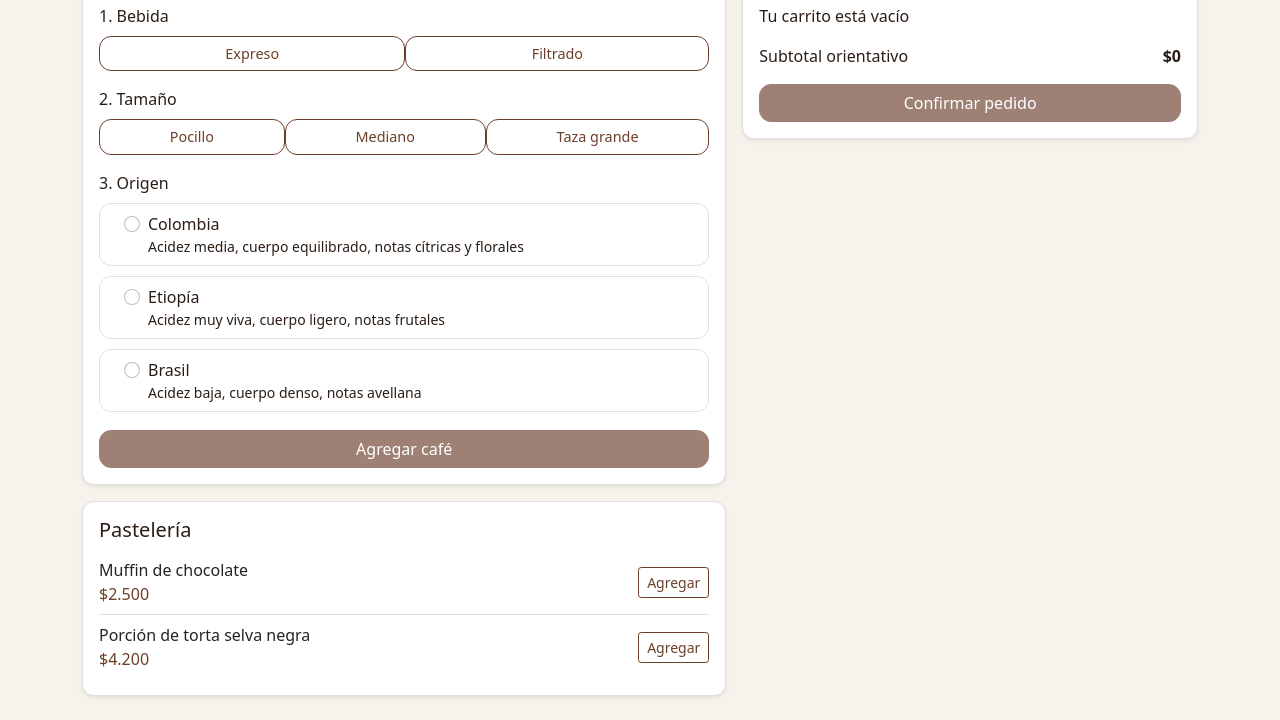
Test: impide confirmar nuevamente mientras el pedido está pendiente de respuesta
(page scrolled)
Click the button with aria-label "Agregar Muffin de chocolate" at (674, 582), box [638,566,709,598]
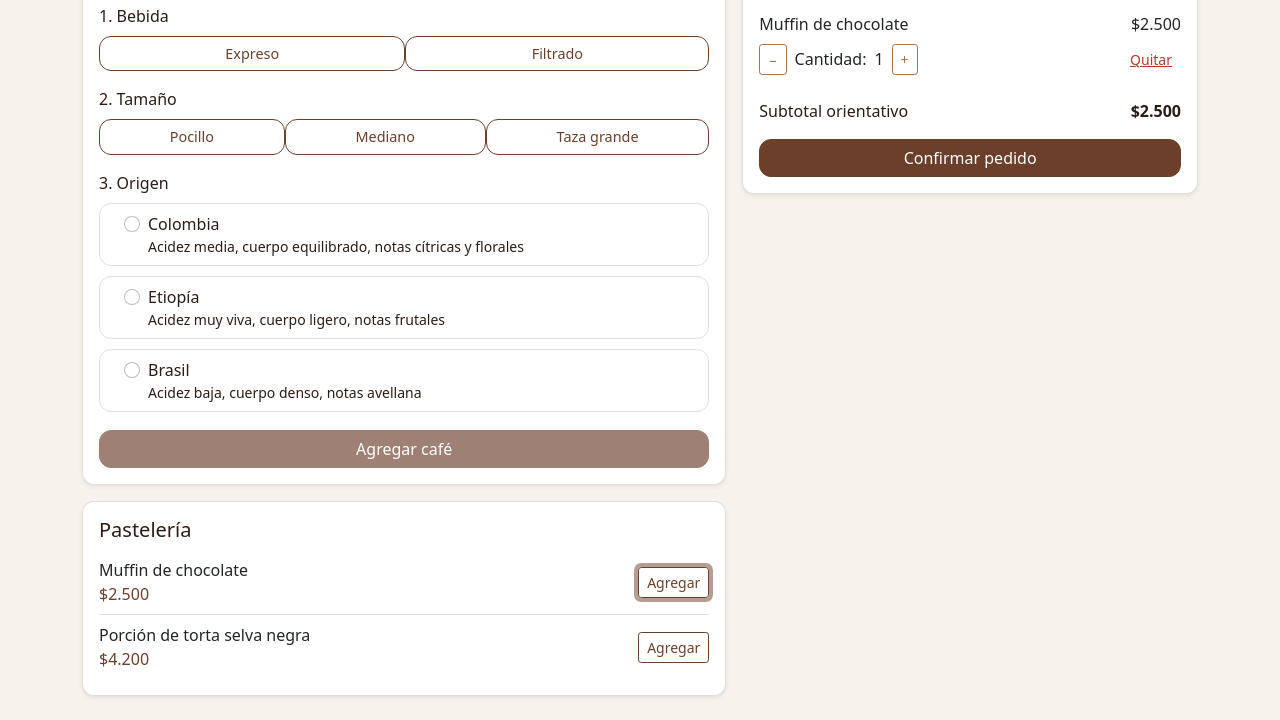
Click the button "Confirmar pedido" at (970, 158), box [759,139,1181,177]
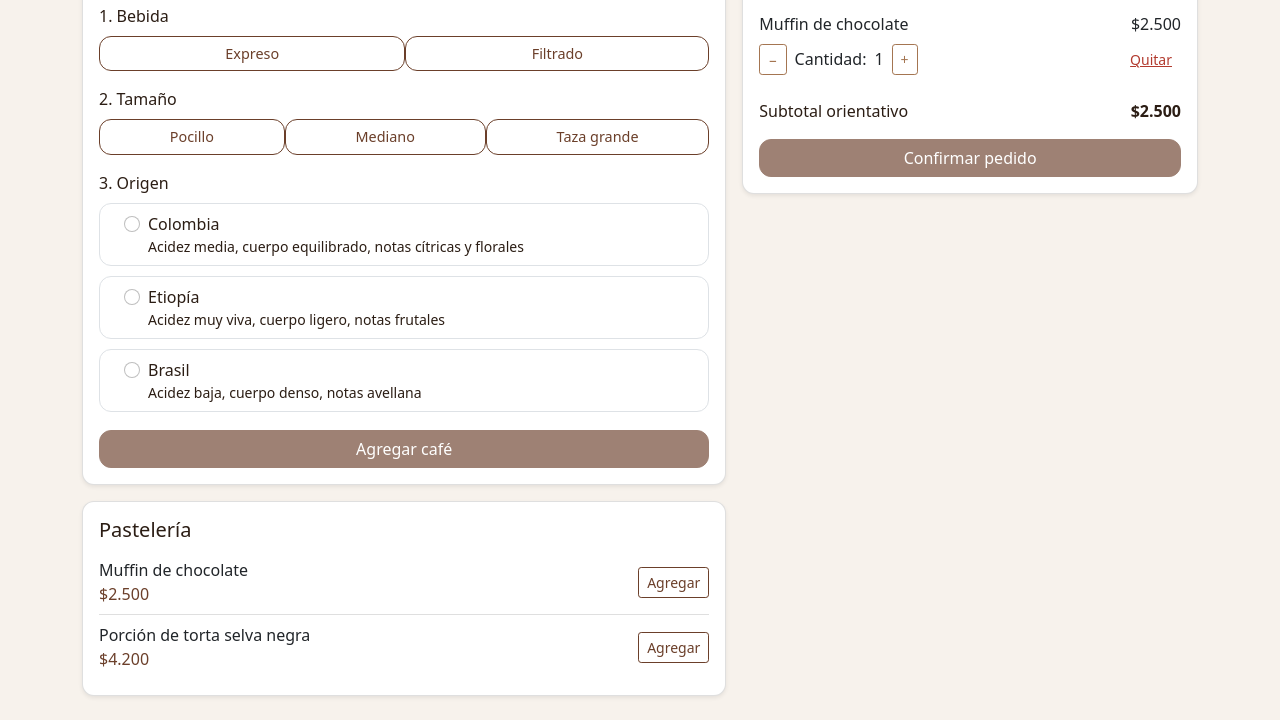
Result: the button "Confirmar pedido" is disabled
Click the button "Confirmar pedido" at (970, 158), box [759,139,1181,177]
(page scrolled)
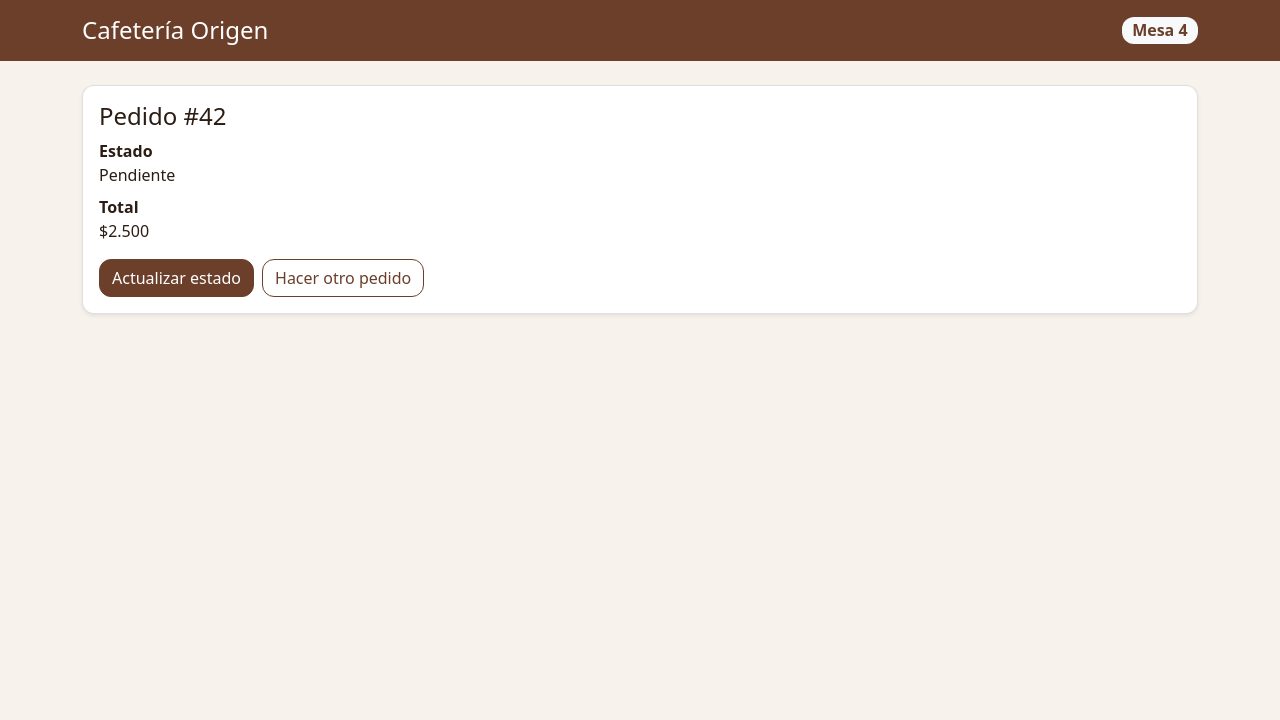
Result: the heading "Pedido #42" is shown at [99,99,226,132]
